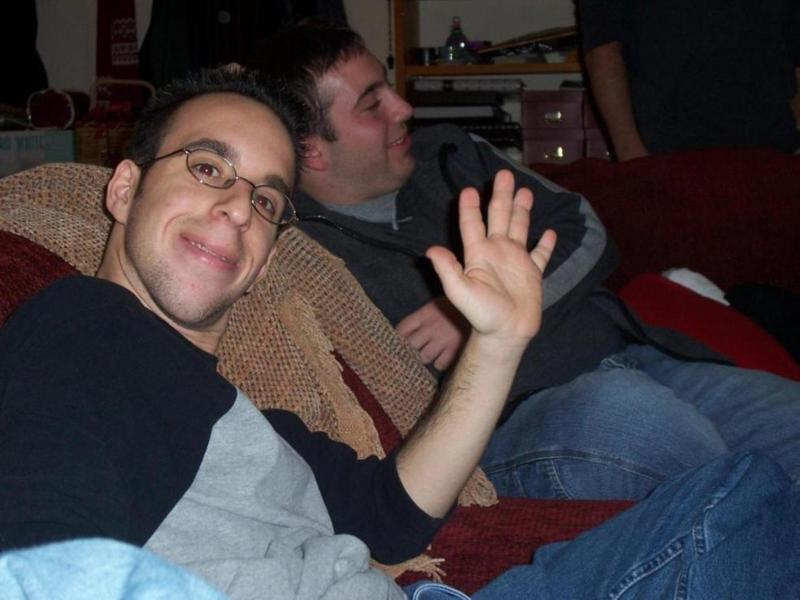person: (1, 82, 555, 600)
